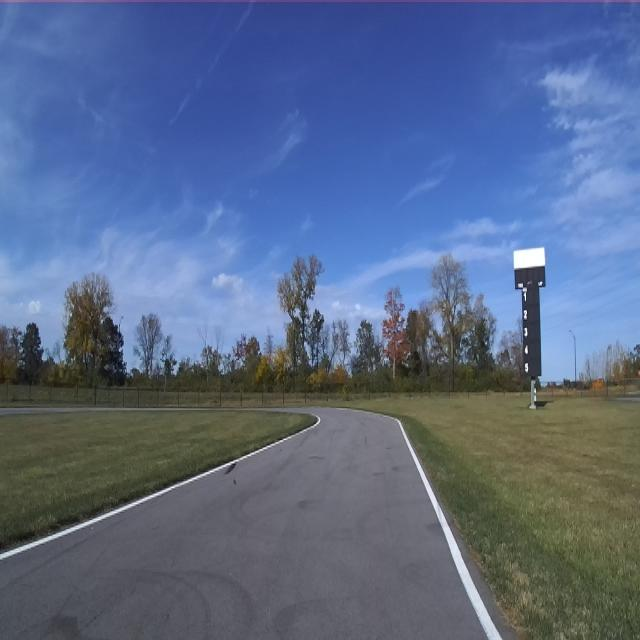white-line: (0, 414, 321, 561), (376, 414, 501, 639)
